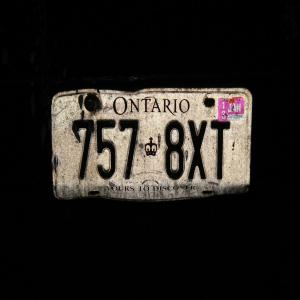Vehicle-registration-plate: (51, 83, 254, 205)
